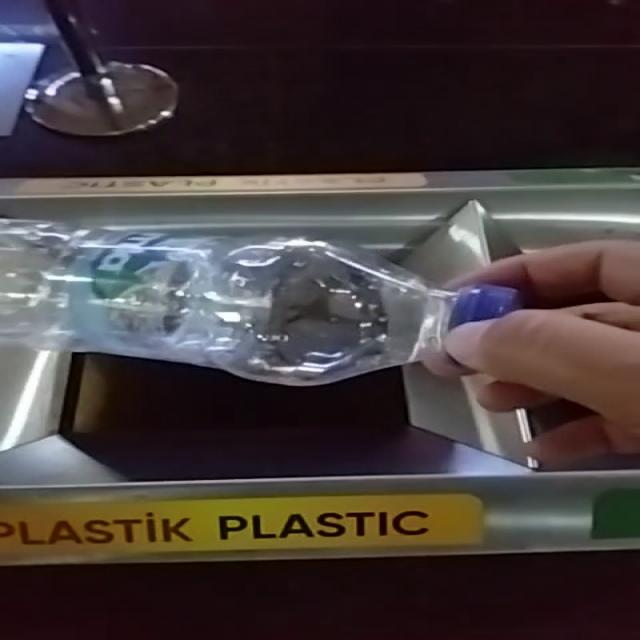plastic: (0, 220, 520, 386)
